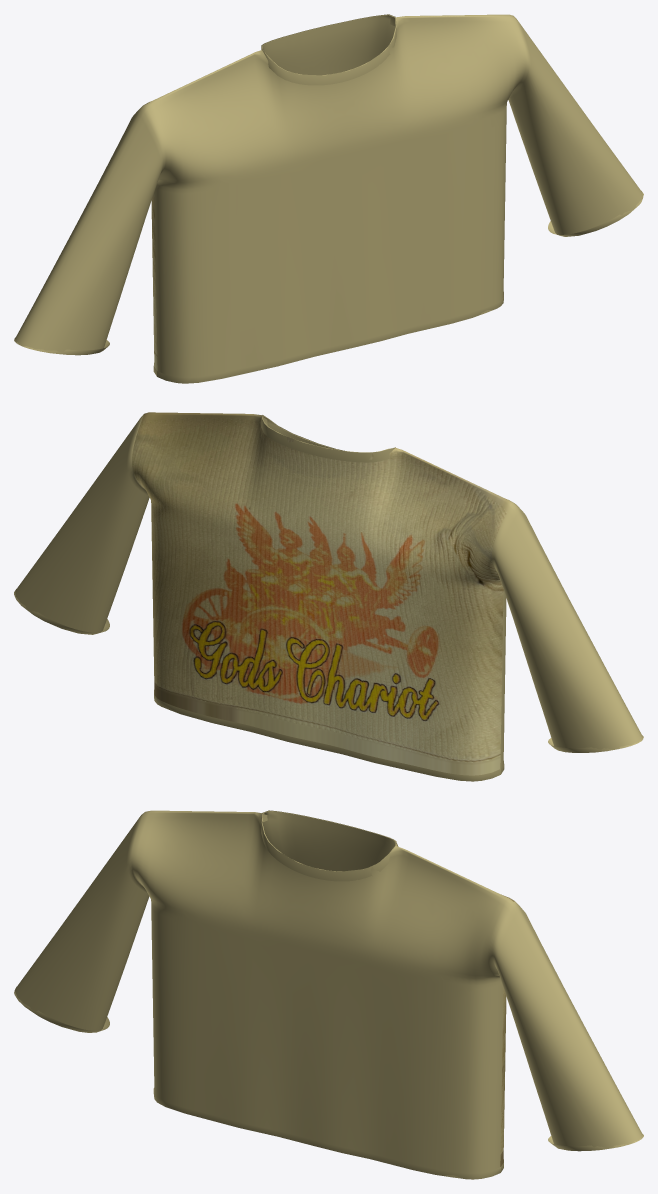
File: gods-chariot-crop-tailored-v6.glb
3 renders of one model, top to bottom at view 1: azimuth 30°, elevation 25°; view 2: azimuth 150°, elevation 25°; view 3: azimuth 330°, elevation 25°, orthographic.
Parts seen in each view (by area): view 1: front cotton, Sleeve cotton, Interior cotton, Bound collar and folded hems, back cotton; view 2: back cotton, Sleeve cotton, Bound collar and folded hems, front cotton; view 3: front cotton, Sleeve cotton, Interior cotton, Bound collar and folded hems, back cotton.
Boxes of the visible parts, box(x1,y1,x2,y2) form: front cotton: box(145, 14, 525, 380); Sleeve cotton: box(15, 16, 643, 351); Interior cotton: box(262, 15, 395, 75); Bound collar and folded hems: box(14, 14, 643, 383); back cotton: box(143, 101, 157, 370); back cotton: box(132, 412, 512, 778); Sleeve cotton: box(15, 414, 643, 749); Bound collar and folded hems: box(14, 415, 643, 781); front cotton: box(500, 499, 514, 768); front cotton: box(131, 810, 513, 1178); Sleeve cotton: box(14, 812, 642, 1148); Interior cotton: box(262, 811, 395, 871); Bound collar and folded hems: box(14, 810, 643, 1179); back cotton: box(395, 843, 514, 1166).
Bounding box in the file's own units: 0.8803 × 0.4067 × 0.0953.
5 materials, 1 textured.
